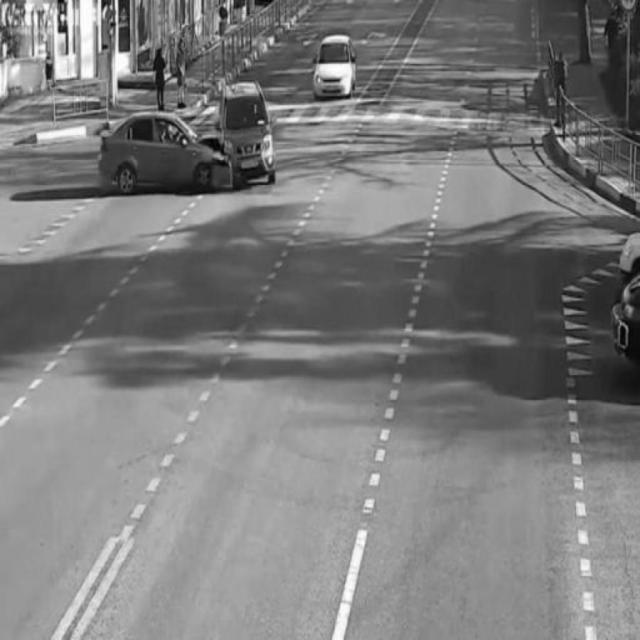accident: (100, 85, 284, 187)
vehicle: (310, 31, 360, 101)
